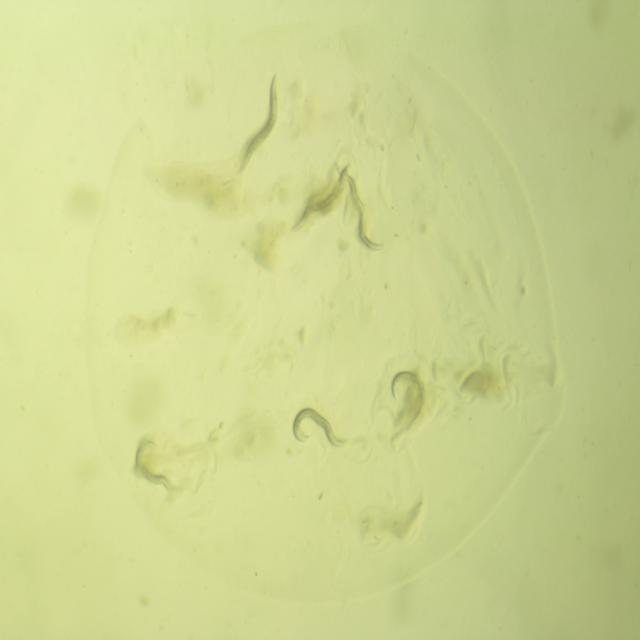worm: (324, 148, 392, 260), (229, 61, 288, 187), (114, 418, 195, 502), (286, 153, 356, 243), (372, 348, 432, 450), (273, 393, 357, 462)
